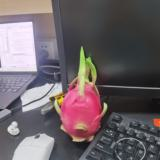pitaya: (61, 59, 105, 142)
